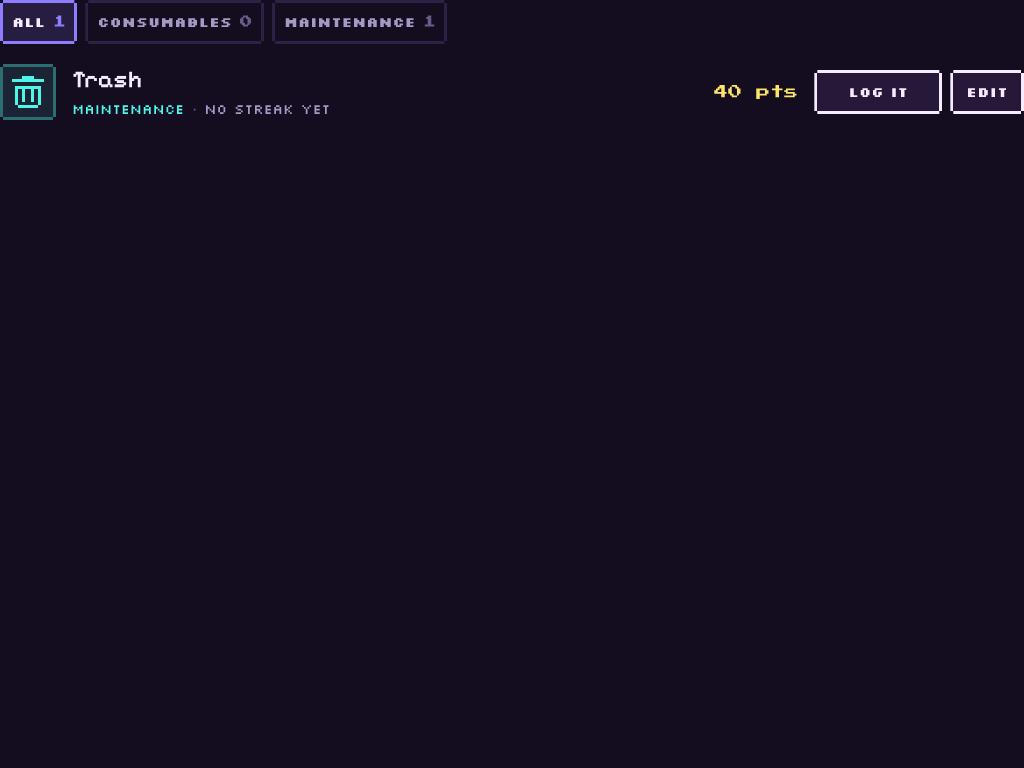
Scenario: BountyBoard › Change points starts at the week's suggestion, explaining the veto
Click the button "Edit" at (987, 92), box [950,70,1023,114]
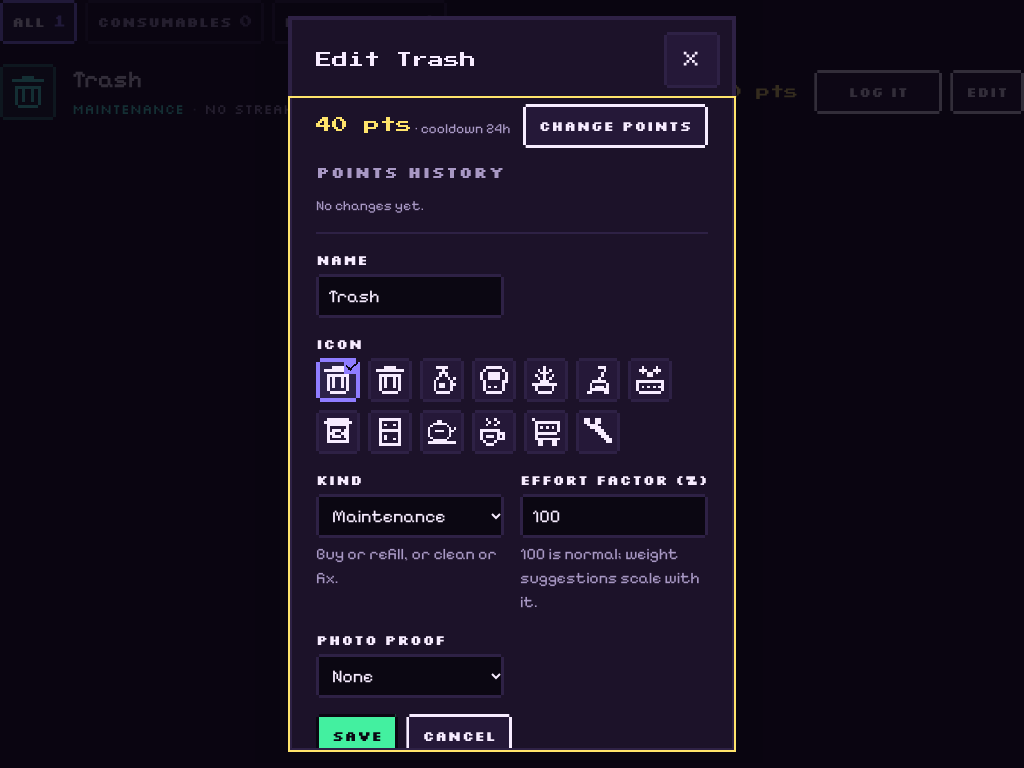
Result: the dialog named "Edit Trash" is shown at [288,16,736,752]
Click the button "Change points" at (615, 126), box [523,104,708,148]
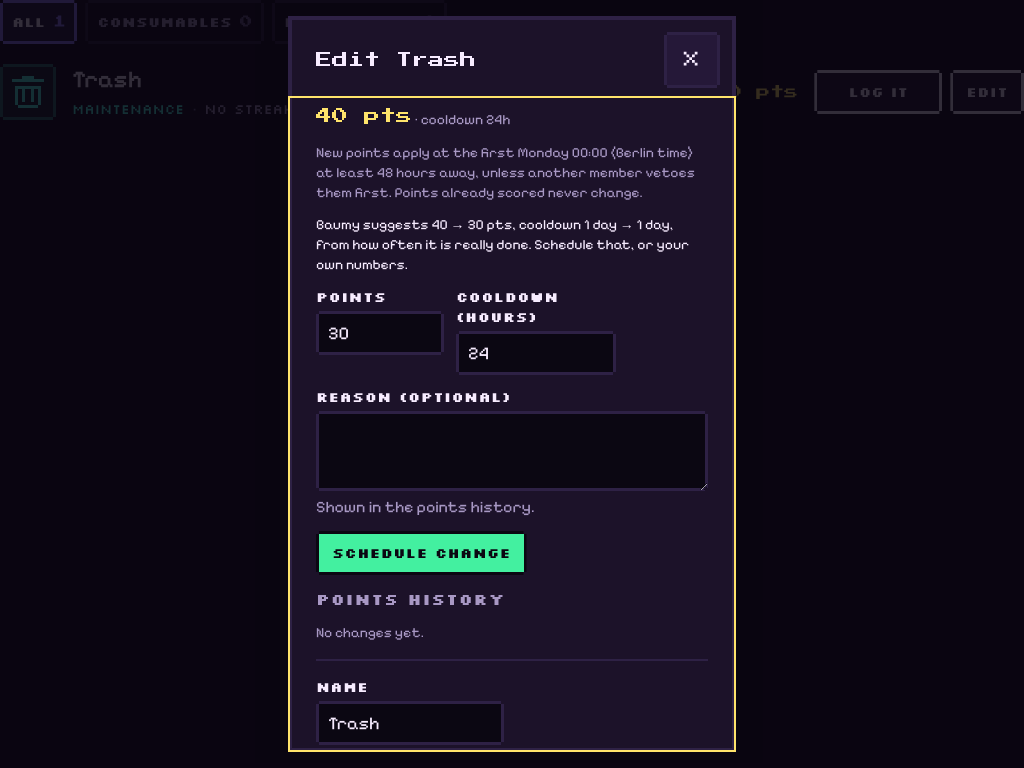
Result: the number field named "basePoints" holds "30" at [316,311,444,355]
Result: the form named "choreId" holds "c-1" at [316,287,708,575]
Result: the text box named "reason" is shown at [316,411,708,491]
